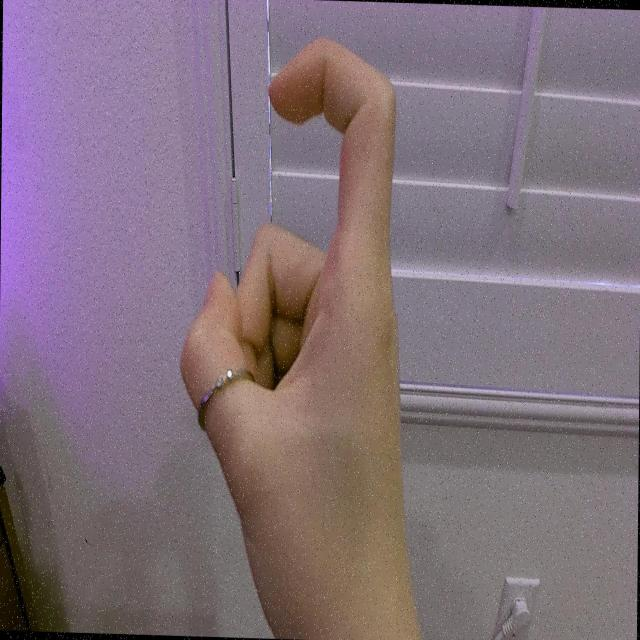X: (175, 29, 405, 640)
